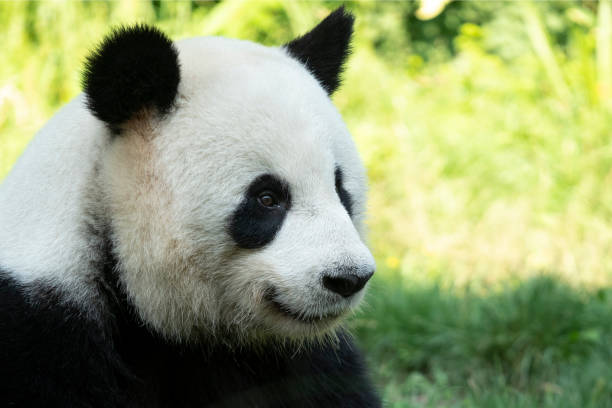panda: (56, 4, 423, 372)
